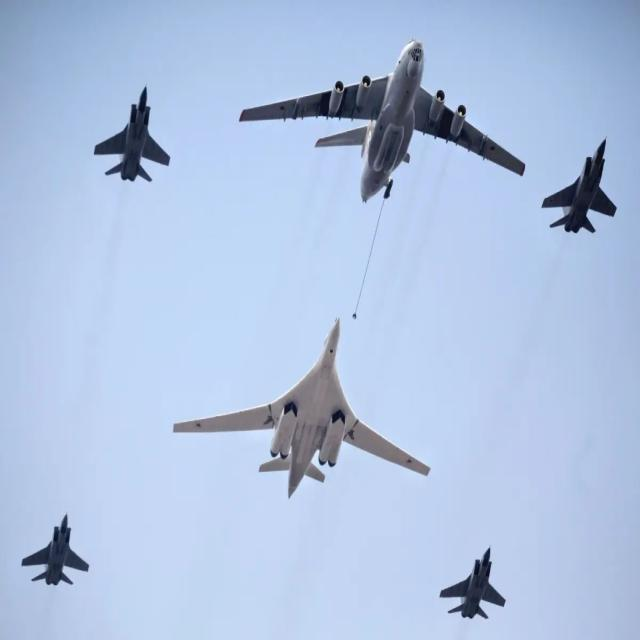Tu160: (144, 287, 452, 521), (227, 21, 530, 216), (77, 68, 176, 203), (536, 120, 628, 259), (437, 521, 530, 640), (17, 503, 103, 604)
